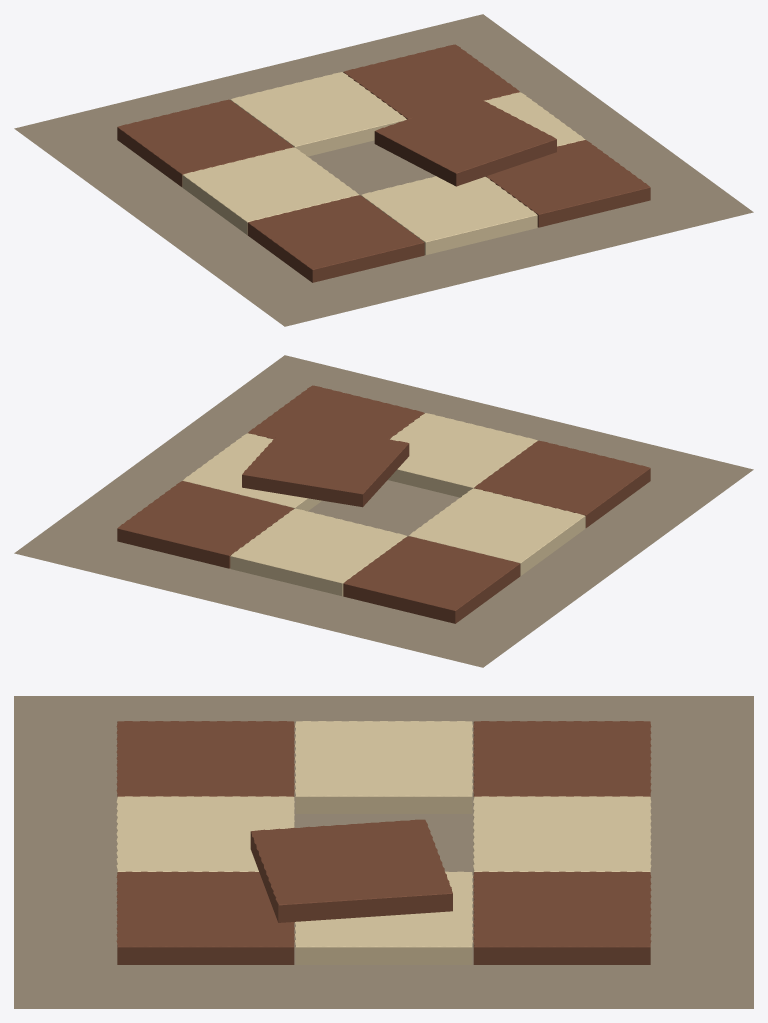
File: terilgan.glb
3 renders of one model, top to bottom at view 1: azimuth 30°, elevation 25°; view 2: azimuth 150°, elevation 25°; view 3: azimuth 270°, elevation 25°, orthographic. The views are drawn at different scales.
Visible parts, largest first — view 1: qum, t.004, t, t.007, t.001, t.003, t.006, t.002, t.008, t.005; view 2: qum, t.006, t.004, t.007, t.008, t.003, t, t.001, t.002, t.005; view 3: qum, t.004, t.008, t.003, t.002, t.007, t, t.006, t.001, t.005.
Part boxes in pixels (x1,y1,x2,y2): qum: (14,14,753,326); t.004: (374,96,556,186); t: (247,195,424,282); t.007: (230,72,406,156); t.001: (360,176,537,255); t.003: (182,147,358,234); t.006: (117,99,293,186); t.002: (485,140,650,227); t.008: (343,44,519,119); t.005: (484,92,585,146); qum: (14,355,753,667); t.006: (343,536,520,623); t.004: (242,423,409,507); t.007: (230,508,407,596); t.008: (117,481,293,568); t.003: (409,488,585,575); t: (474,440,650,527); t.001: (388,413,537,497); t.002: (248,385,424,439); t.005: (182,433,321,511); qum: (14,696,753,1008); t.004: (250,819,452,922); t.008: (473,871,651,964); t.003: (295,721,472,813); t.002: (116,871,294,964); t.007: (473,796,651,872); t: (116,721,294,796); t.006: (473,721,651,796); t.001: (116,796,294,872); t.005: (295,871,472,964).
Bounding box in the file's own units: 1.66 × 0.092 × 1.66.
